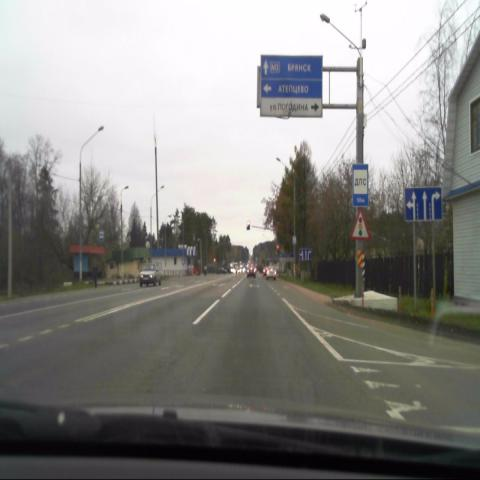7_12: (354, 164, 368, 206)
